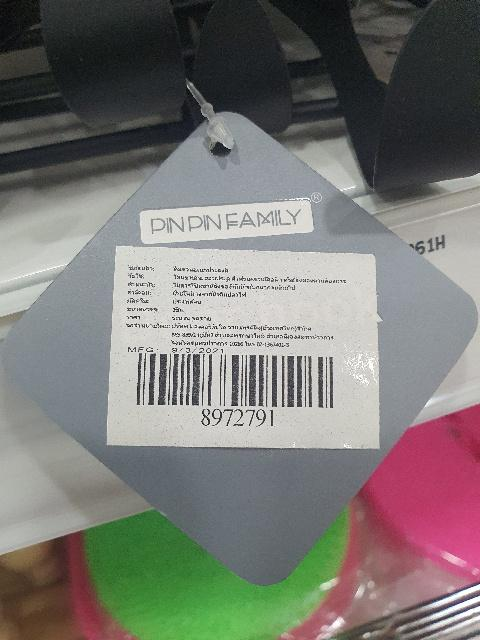Barcode: (126, 345, 349, 427)
